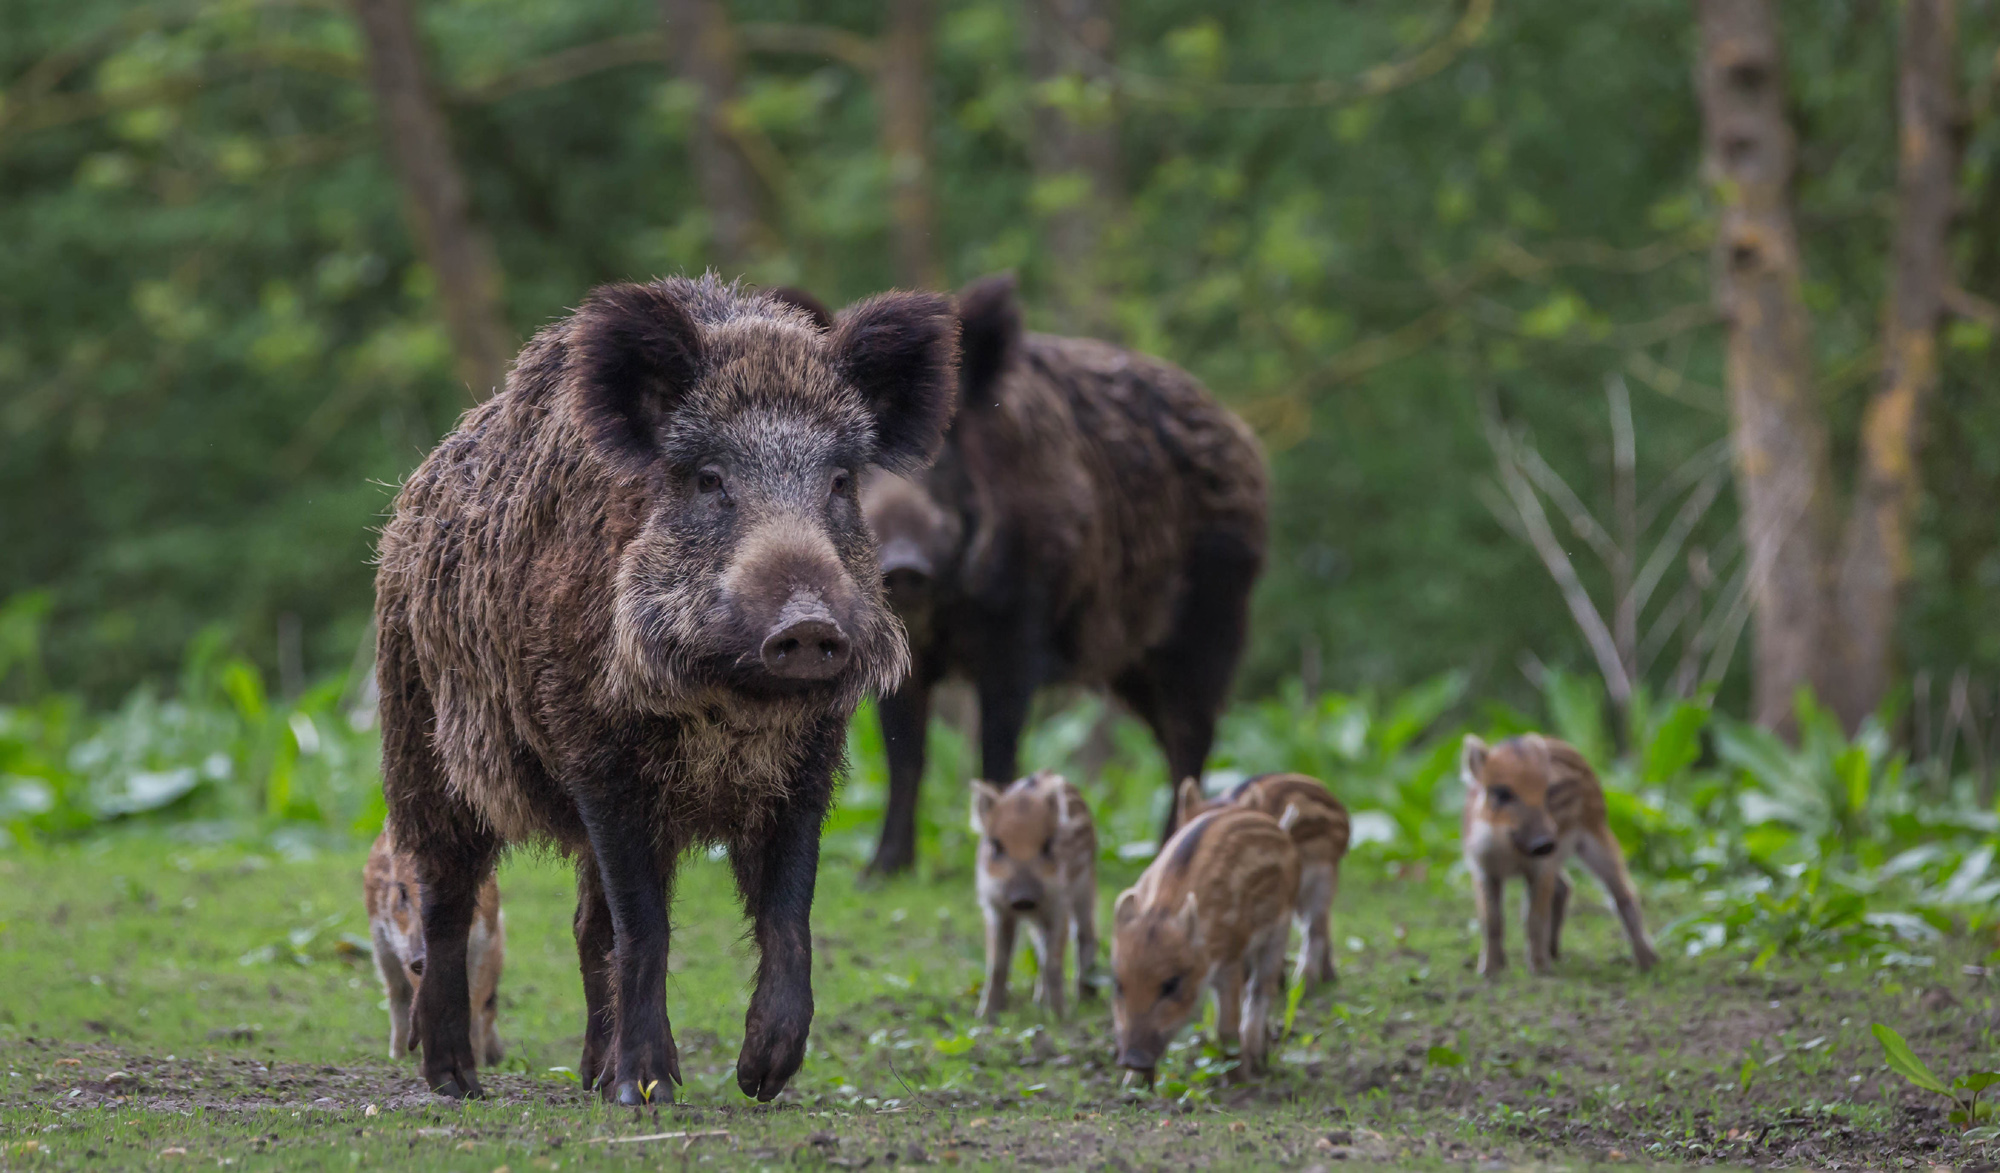boar: (331, 244, 931, 1152), (765, 242, 1290, 906), (1090, 797, 1329, 1126)
